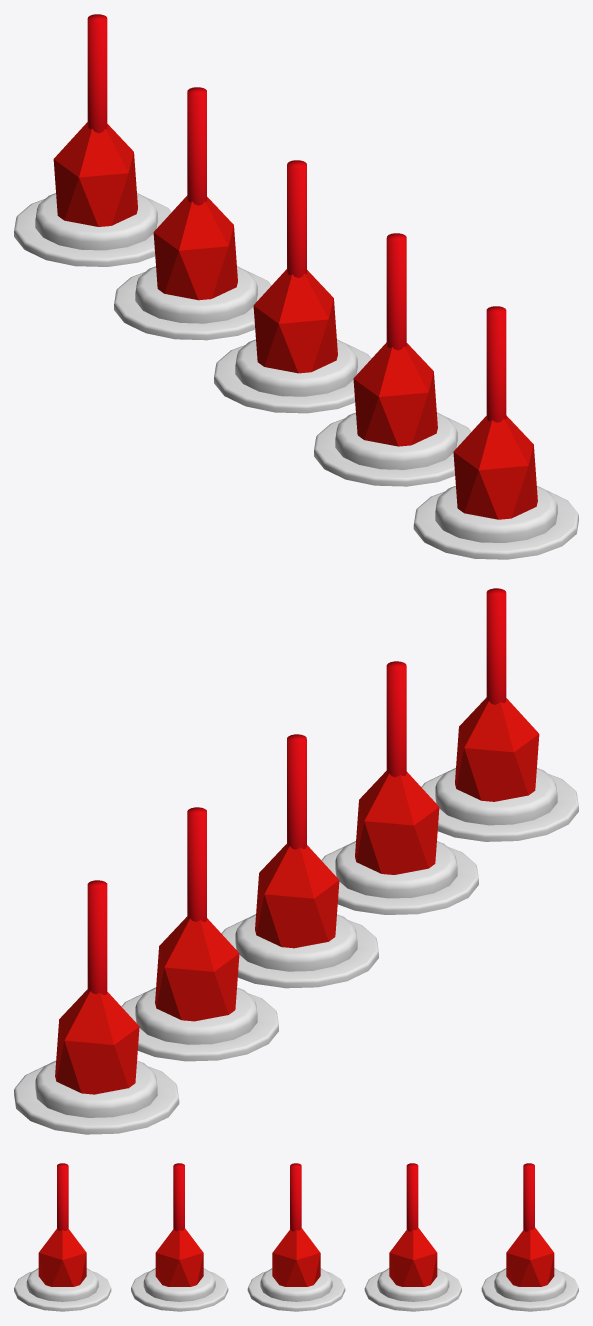
The model's file is laser_herse.fbx.
The picture shows the model from 3 angles, top to bottom: view 1: azimuth 30°, elevation 25°; view 2: azimuth 150°, elevation 25°; view 3: azimuth 270°, elevation 25°; orthographic projection. The views are drawn at different scales.
Visible parts, largest first — view 1: Cylinder.003, Cylinder.004; view 2: Cylinder.003, Cylinder.004; view 3: Cylinder.003, Cylinder.004.
Boxes of the visible parts, x1,y1,x2,y2 form: Cylinder.003: (14,122,578,559); Cylinder.004: (87,14,506,422); Cylinder.003: (14,697,578,1134); Cylinder.004: (87,588,506,994); Cylinder.003: (14,1227,578,1311); Cylinder.004: (57,1163,534,1231).
Bounding box in the file's own units: 100 × 142 × 580.
